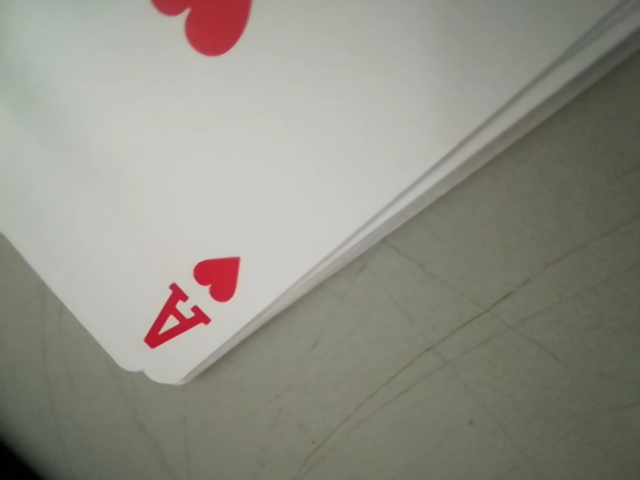hx a: (141, 253, 240, 362)
